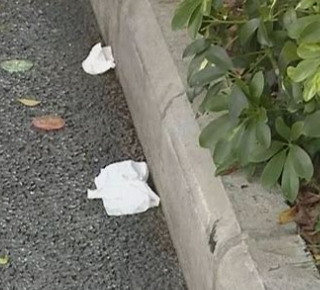garbage: (89, 162, 165, 220), (77, 42, 118, 80)
